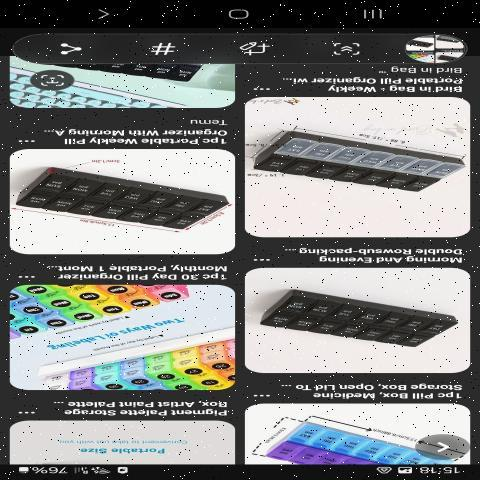PillBox: (250, 114, 468, 221), (12, 161, 231, 248), (253, 280, 463, 365)
